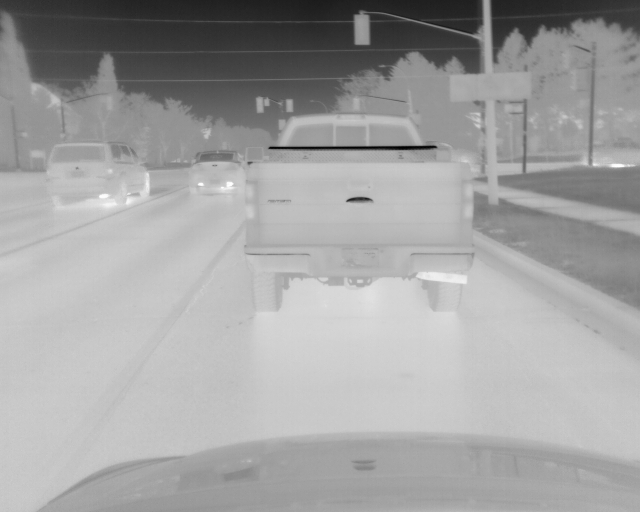car: (244, 111, 475, 315), (46, 141, 149, 210), (189, 151, 244, 196), (580, 138, 640, 168), (434, 140, 482, 173)
